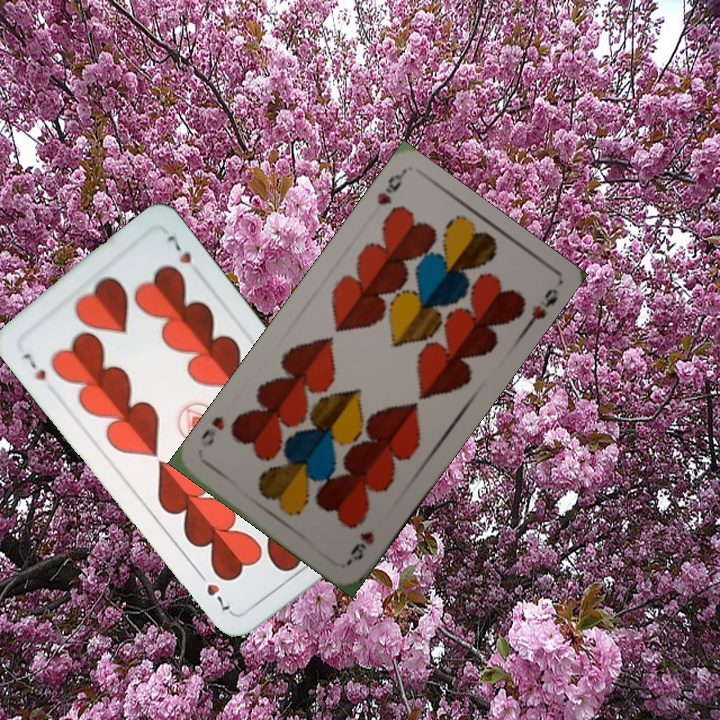H7: (19, 349, 49, 384)
H9: (372, 169, 406, 208), (344, 527, 377, 565)
